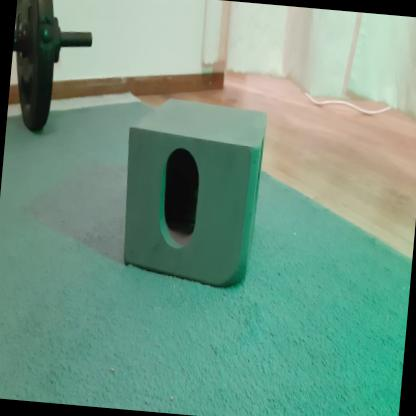CornerCasting: (113, 92, 270, 291)
